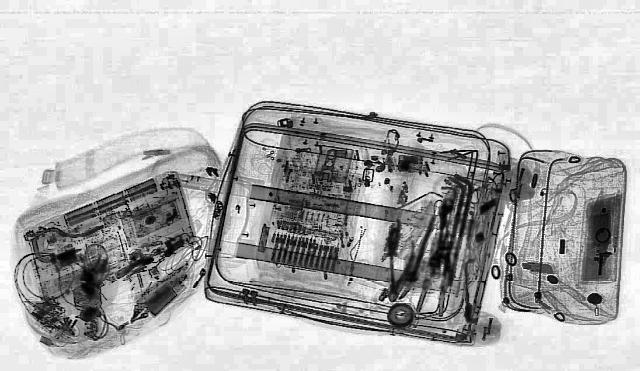Pliers: (377, 240, 417, 302)
